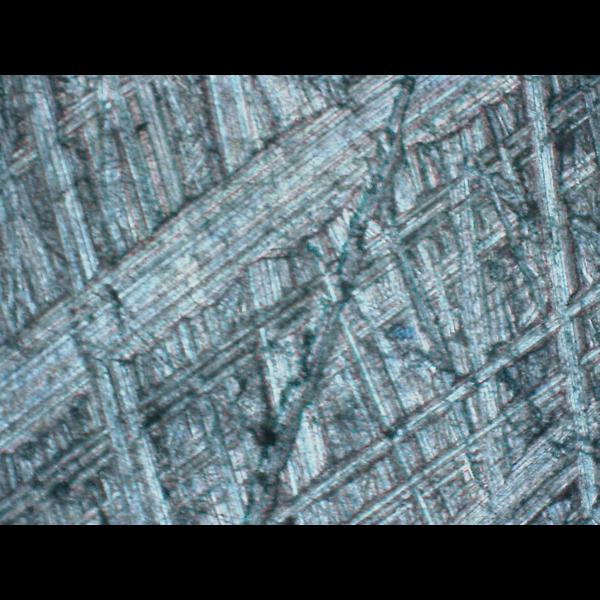d: (36, 110, 447, 496)
